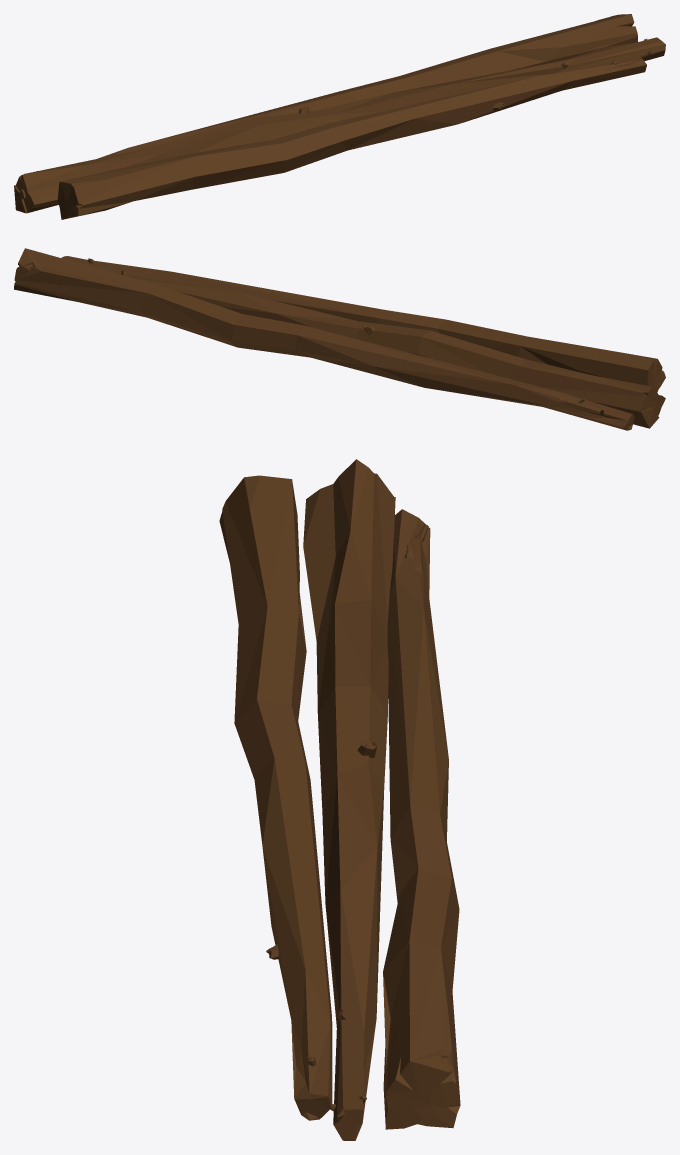
Rendered from tree-spruce-log-pile-a.gltf.
3 views of the same model, one above another, from view 1: azimuth 30°, elevation 25°; view 2: azimuth 150°, elevation 25°; view 3: azimuth 270°, elevation 25° (orthographic). The views are drawn at different scales.
Visible parts, largest first — view 1: tree-spruce-log-pile-a; view 2: tree-spruce-log-pile-a; view 3: tree-spruce-log-pile-a.
Boxes of the visible parts, left/top/right/bottom form: tree-spruce-log-pile-a: left=14, top=14, right=665, bottom=219; tree-spruce-log-pile-a: left=14, top=248, right=665, bottom=430; tree-spruce-log-pile-a: left=219, top=459, right=460, bottom=1140.
Size of the model in its own units: 0.0815 by 0.0057 by 0.0135.
